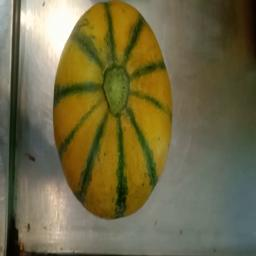Melon Fresh: (43, 2, 180, 223)
